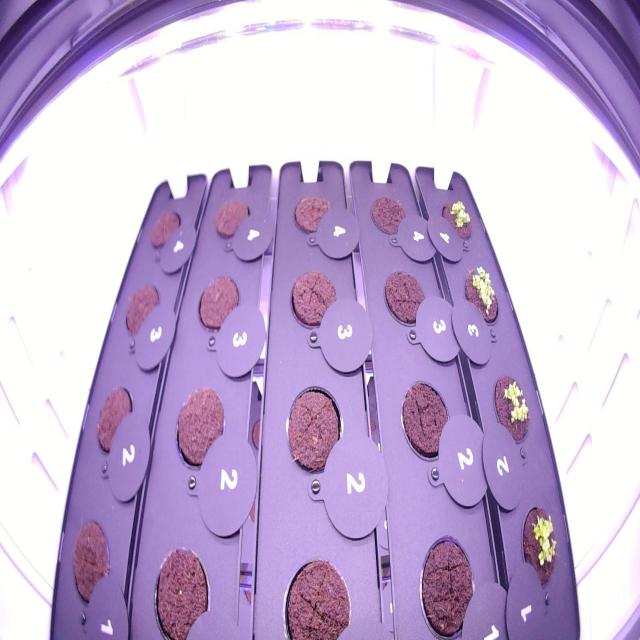germination: (514, 496, 562, 596), (489, 368, 534, 452), (457, 259, 503, 334), (437, 191, 478, 250)
pod: (410, 525, 484, 638), (275, 545, 358, 638), (148, 534, 220, 639), (280, 378, 349, 480), (166, 377, 232, 479), (396, 373, 458, 470), (66, 512, 118, 618), (285, 263, 343, 337), (378, 262, 435, 334), (192, 268, 246, 341), (92, 380, 140, 459), (118, 277, 164, 345), (288, 186, 340, 242), (364, 188, 414, 243), (209, 191, 255, 249), (146, 202, 184, 261)
